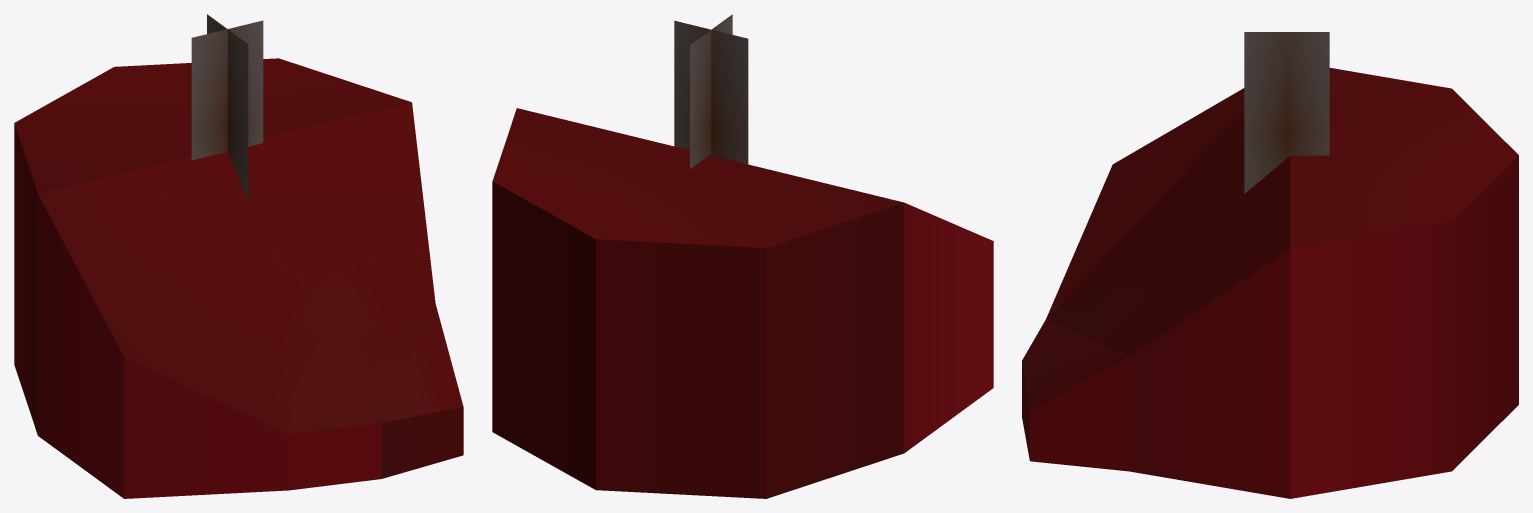
File: spent_light_997x07.obj
3 renders of one model, left to right at view 1: azimuth 30°, elevation 25°; view 2: azimuth 150°, elevation 25°; view 3: azimuth 270°, elevation 25°, orthographic. The views are drawn at different scales.
Parts seen in each view (by area): view 1: spent_light_997x07; view 2: spent_light_997x07; view 3: spent_light_997x07.
Part boxes in pixels (x1,y1,x2,y2): spent_light_997x07: (14, 14, 463, 498); spent_light_997x07: (492, 14, 993, 498); spent_light_997x07: (1022, 32, 1518, 498).
Size of the model in its own units: 0.1466 by 0.1356 by 0.1635.
